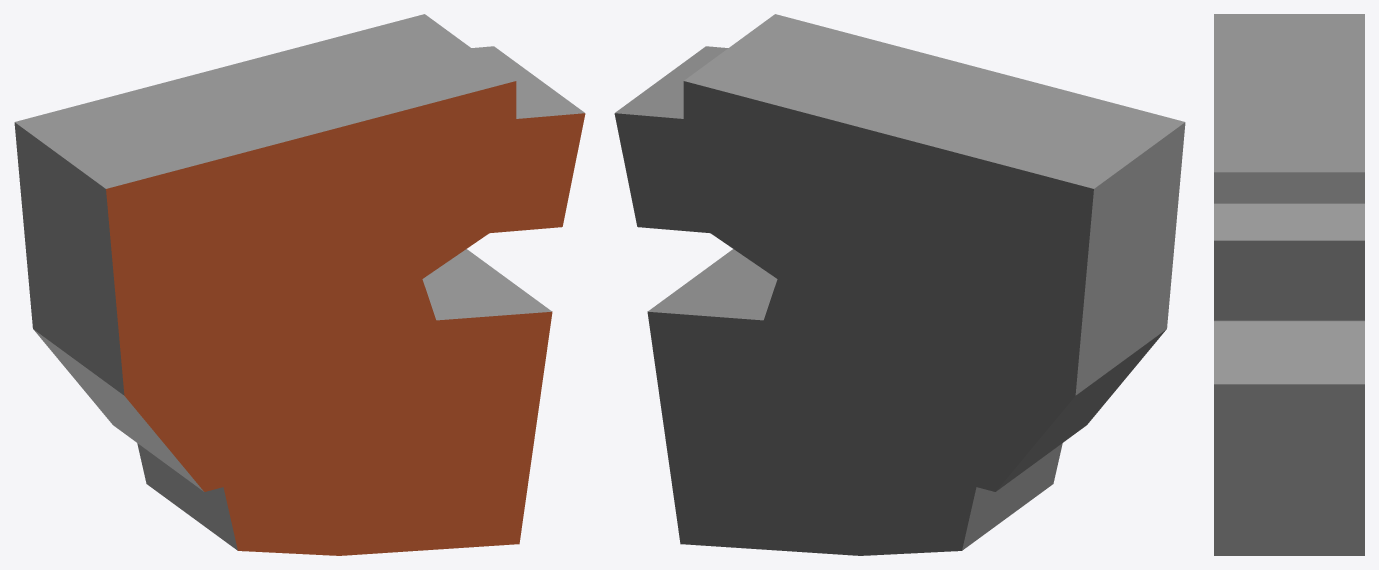
File: construction_0434_assumed_A_Casa_h6m.obj
The picture shows the model from 3 angles, left to right: view 1: azimuth 30°, elevation 25°; view 2: azimuth 150°, elevation 25°; view 3: azimuth 270°, elevation 25°; orthographic projection. The views are drawn at different scales.
Parts seen in each view (by area): view 1: construction_0434_assumed_A_Casa; view 2: construction_0434_assumed_A_Casa; view 3: construction_0434_assumed_A_Casa.
Boxes of the visible parts, <box> form: construction_0434_assumed_A_Casa: <box>14,14,585,555</box>; construction_0434_assumed_A_Casa: <box>614,14,1185,555</box>; construction_0434_assumed_A_Casa: <box>1214,14,1364,555</box>.
Bounding box in the file's own units: 18.16 × 16.79 × 6.
